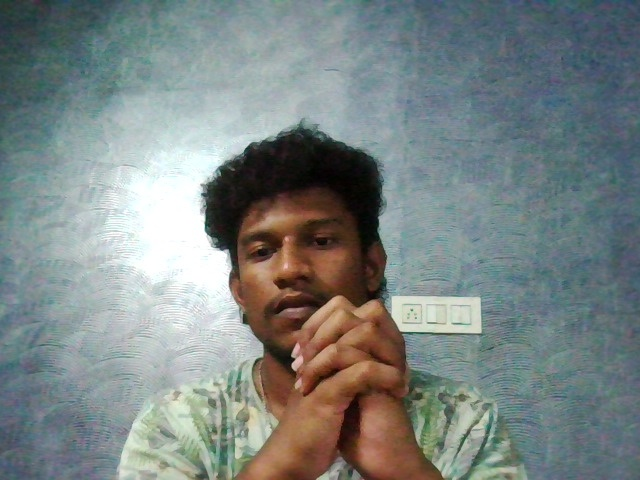together: (237, 284, 462, 480)
